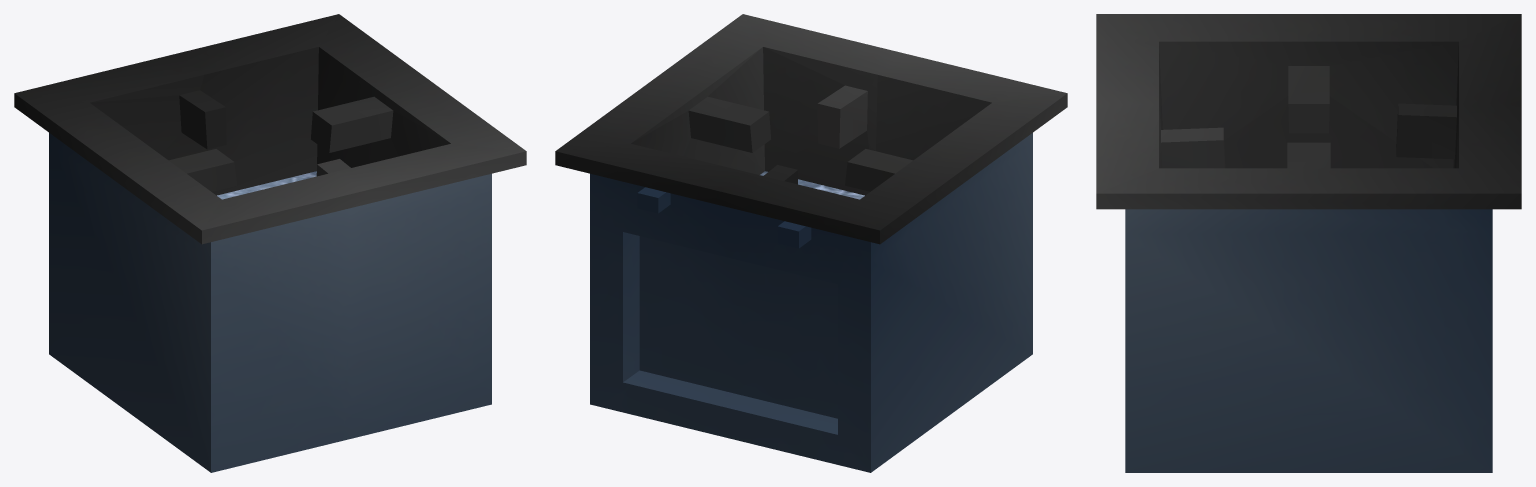
File: Cooker.fbx
3 renders of one model, left to right at view 1: azimuth 30°, elevation 25°; view 2: azimuth 150°, elevation 25°; view 3: azimuth 270°, elevation 25°, orthographic. The views are drawn at different scales.
Parts seen in each view (by area): view 1: Cube.047; view 2: Cube.047; view 3: Cube.047.
Boxes of the visible parts, left/top/right/bottom form: Cube.047: left=14, top=14, right=526, bottom=472; Cube.047: left=555, top=14, right=1067, bottom=472; Cube.047: left=1096, top=14, right=1521, bottom=472.
Bounding box in the file's own units: 231 × 175 × 231.
